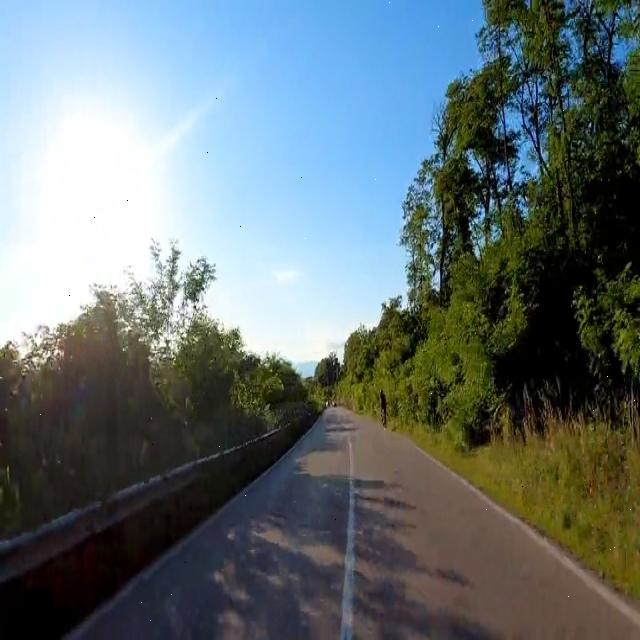lane: (72, 407, 639, 638), (341, 436, 354, 639)
road: (72, 407, 639, 638)
